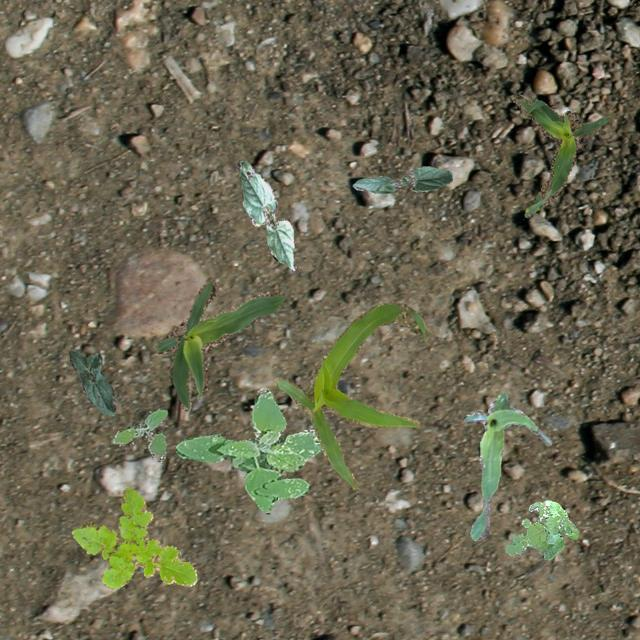crop: (272, 302, 430, 488), (156, 280, 282, 410), (462, 392, 550, 540), (510, 94, 610, 216), (237, 160, 294, 270), (68, 348, 114, 414), (352, 165, 452, 192)
weed: (175, 386, 322, 511), (70, 487, 196, 588), (503, 499, 578, 558), (112, 406, 166, 462)
